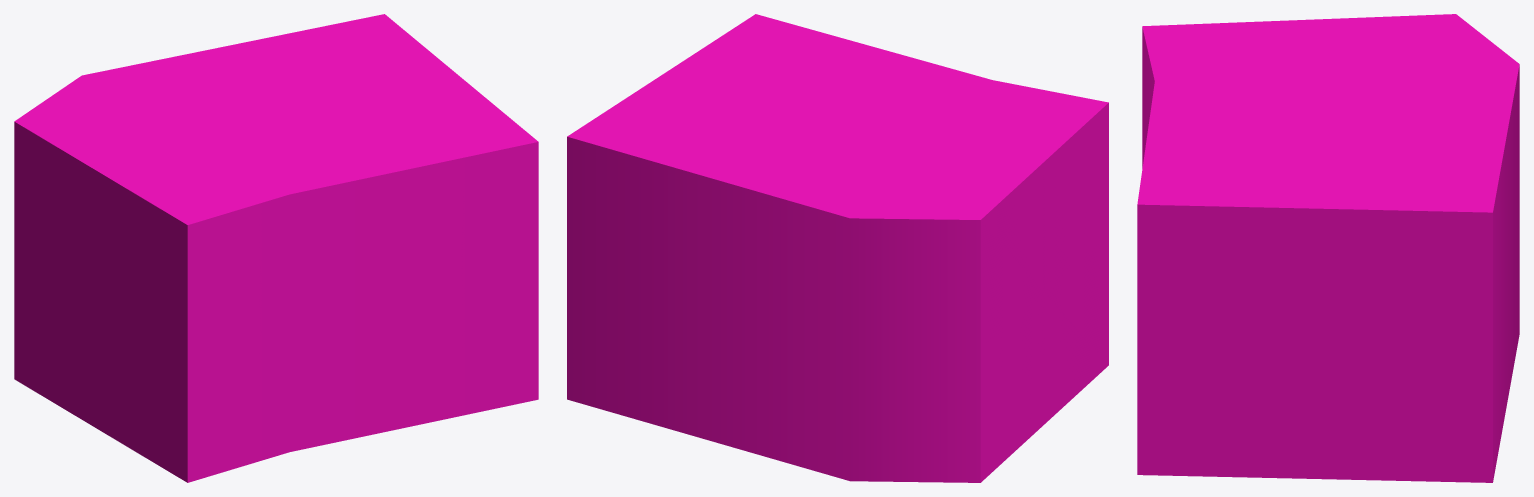
The model's file is study_book_pile_1_meshCollider.fbx.
3 renders of one model, left to right at view 1: azimuth 30°, elevation 25°; view 2: azimuth 150°, elevation 25°; view 3: azimuth 270°, elevation 25°, orthographic. The views are drawn at different scales.
Visible parts, largest first — view 1: study_book_pile_1_meshCollider; view 2: study_book_pile_1_meshCollider; view 3: study_book_pile_1_meshCollider.
Boxes of the visible parts, <box> form: study_book_pile_1_meshCollider: <box>14,14,538,482</box>; study_book_pile_1_meshCollider: <box>567,14,1108,482</box>; study_book_pile_1_meshCollider: <box>1137,14,1519,482</box>.
Size of the model in its own units: 28.91 by 18.35 by 23.52.
